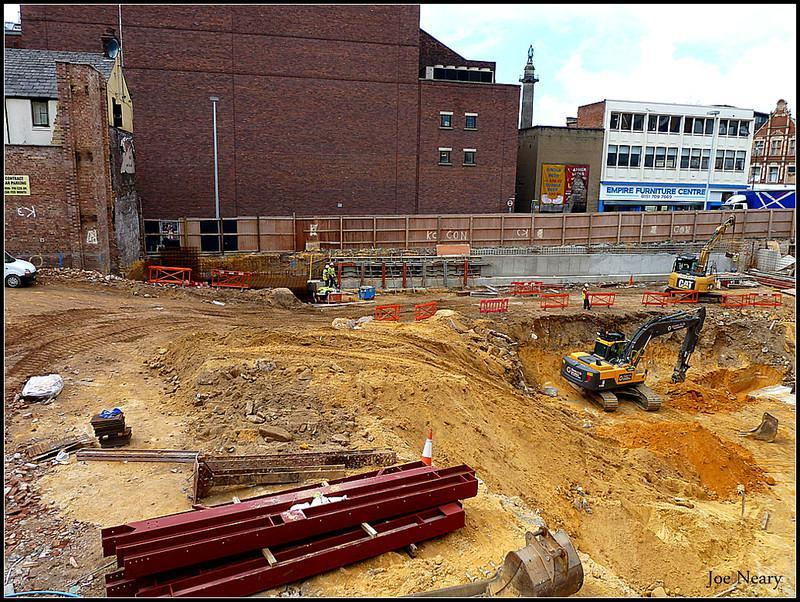EXCAVATORS: (559, 306, 713, 415), (662, 215, 739, 307)
